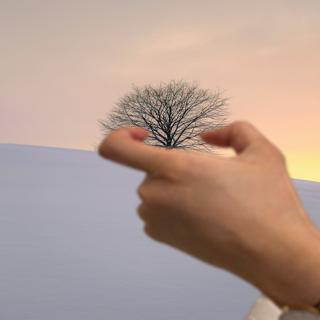HATE: (88, 115, 320, 280)
